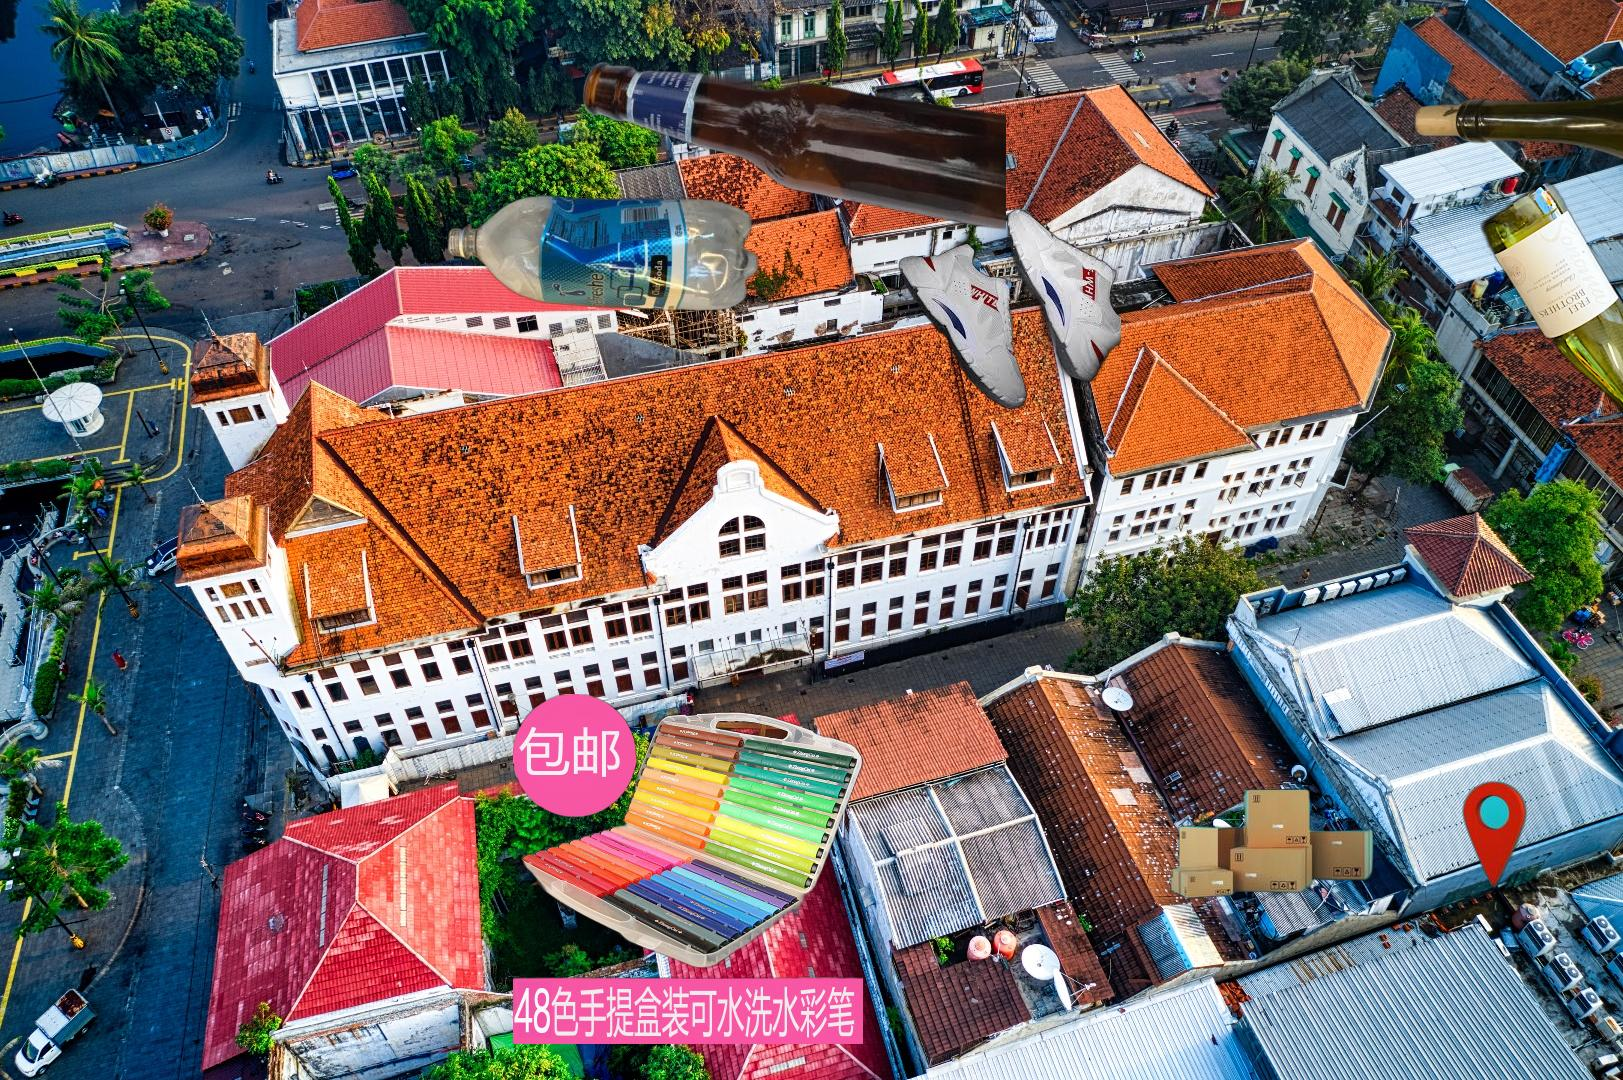glass: (578, 60, 1006, 233), (1477, 175, 1623, 485), (1410, 64, 1623, 199)
penholder: (513, 694, 863, 1044)
plastic-bottles: (443, 190, 761, 315)
shoes: (896, 206, 1121, 412)
trashbox-cardboard: (1168, 779, 1530, 900)
